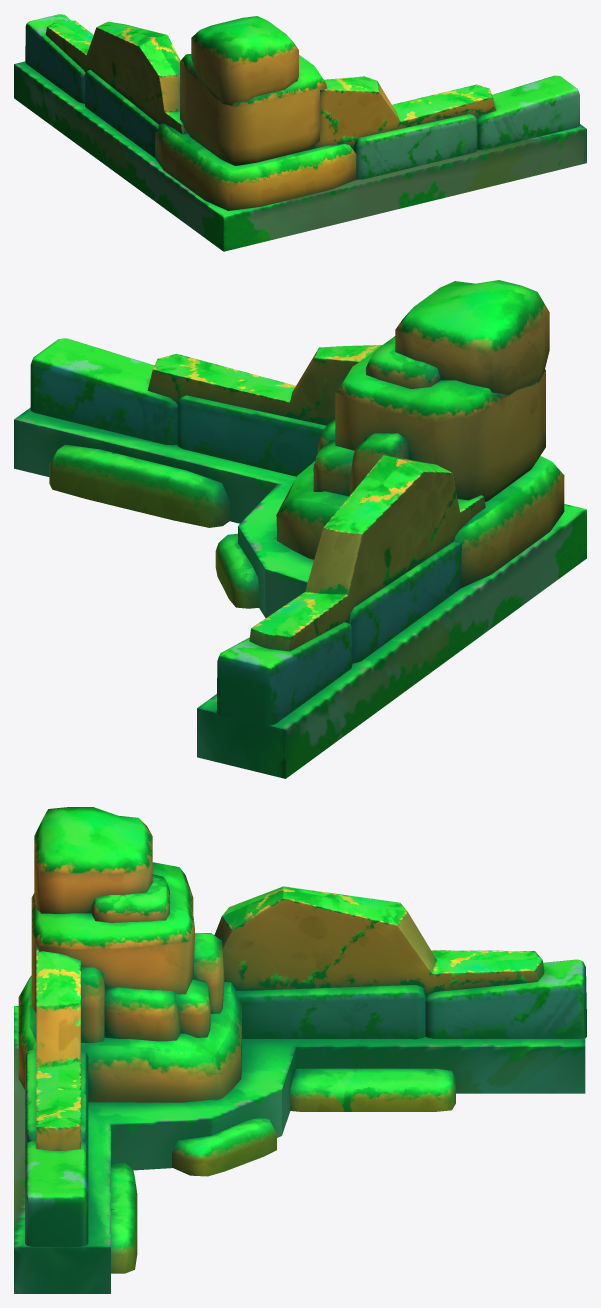
File: LowerCorner.fbx
3 views of the same model, one above another, from view 1: azimuth 30°, elevation 25°; view 2: azimuth 150°, elevation 25°; view 3: azimuth 270°, elevation 25° (orthographic). The views are drawn at different scales.
Visible parts, largest first — view 1: LowerCorner; view 2: LowerCorner; view 3: LowerCorner.
Part boxes in pixels (x1,y1,x2,y2): LowerCorner: (14, 14, 586, 251); LowerCorner: (14, 280, 586, 778); LowerCorner: (14, 807, 586, 1293).
Bounding box in the file's own units: 12.84 × 6.52 × 12.88.
